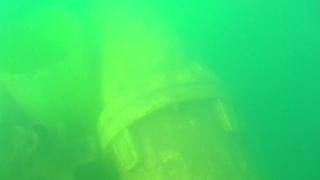pipe: (93, 30, 263, 180), (1, 1, 94, 131)
